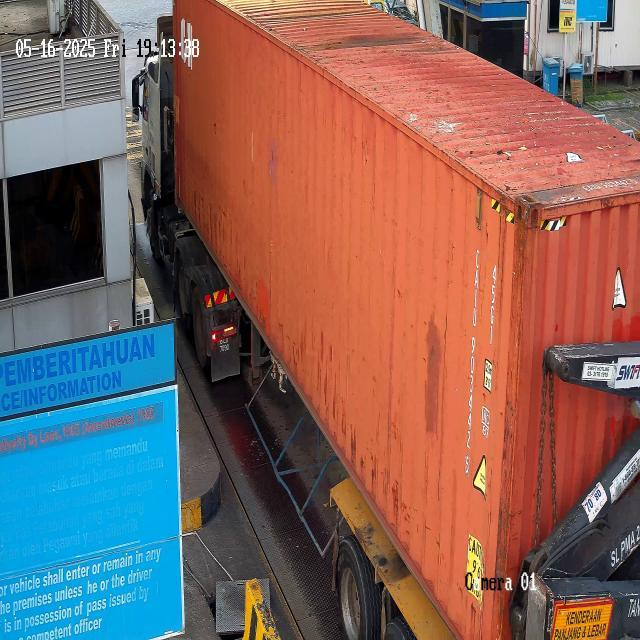ISO: (486, 243, 502, 350)
container_number: (458, 234, 481, 496)
